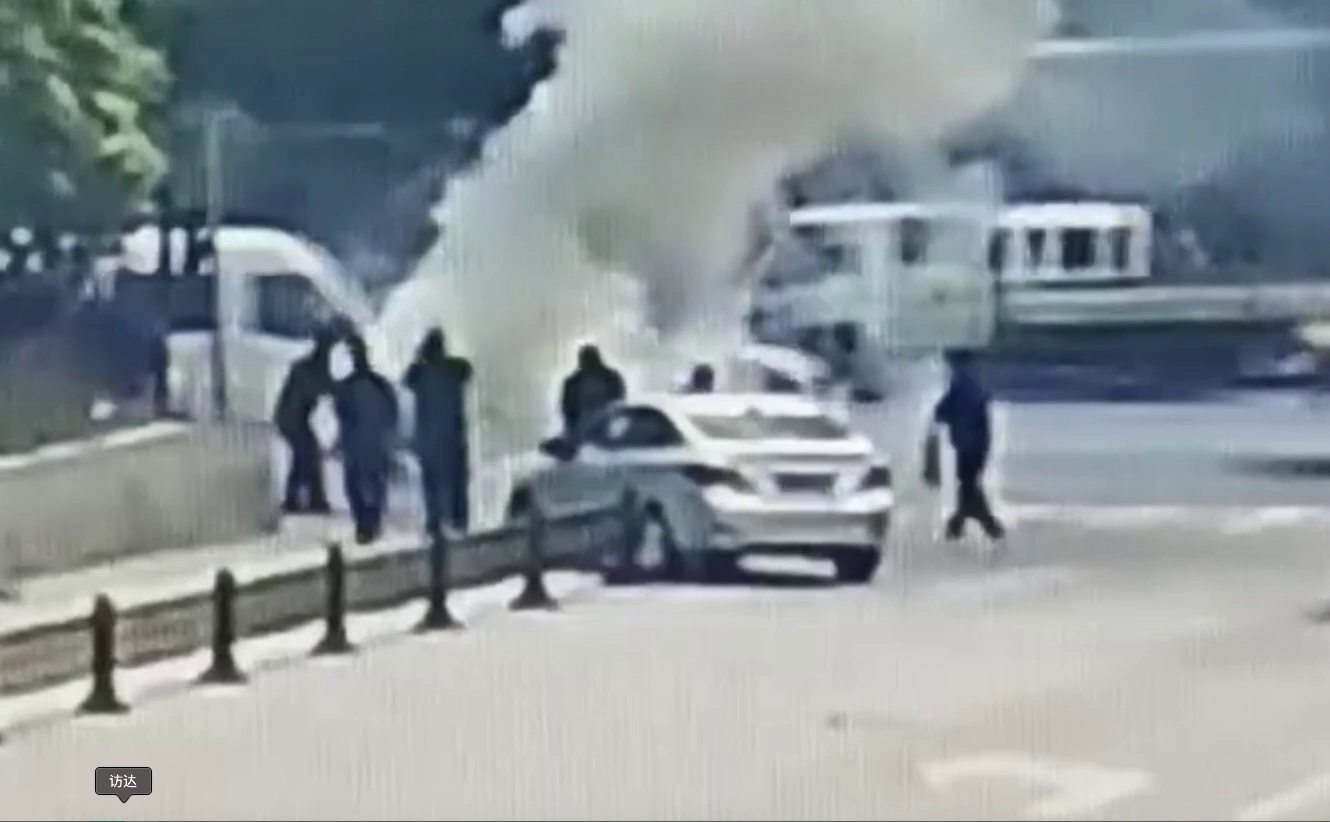smoke: (356, 8, 951, 423)
